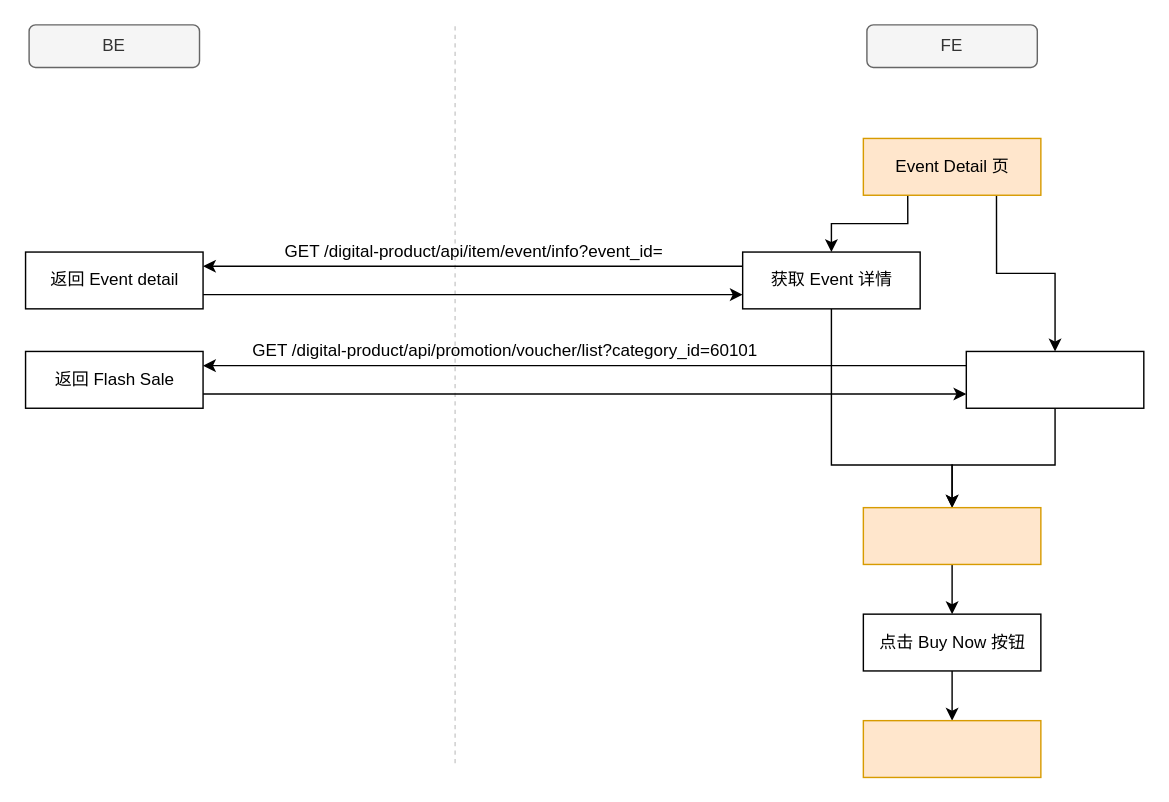
This 1169x802 diagram has some shape labels left out. Each missing label, with the box of its shape:
Ticket Group 页面: (862, 719, 1041, 777)
获取 Flash Sale: (965, 350, 1144, 408)
重新渲染 Event Detail 页: (862, 506, 1041, 564)
